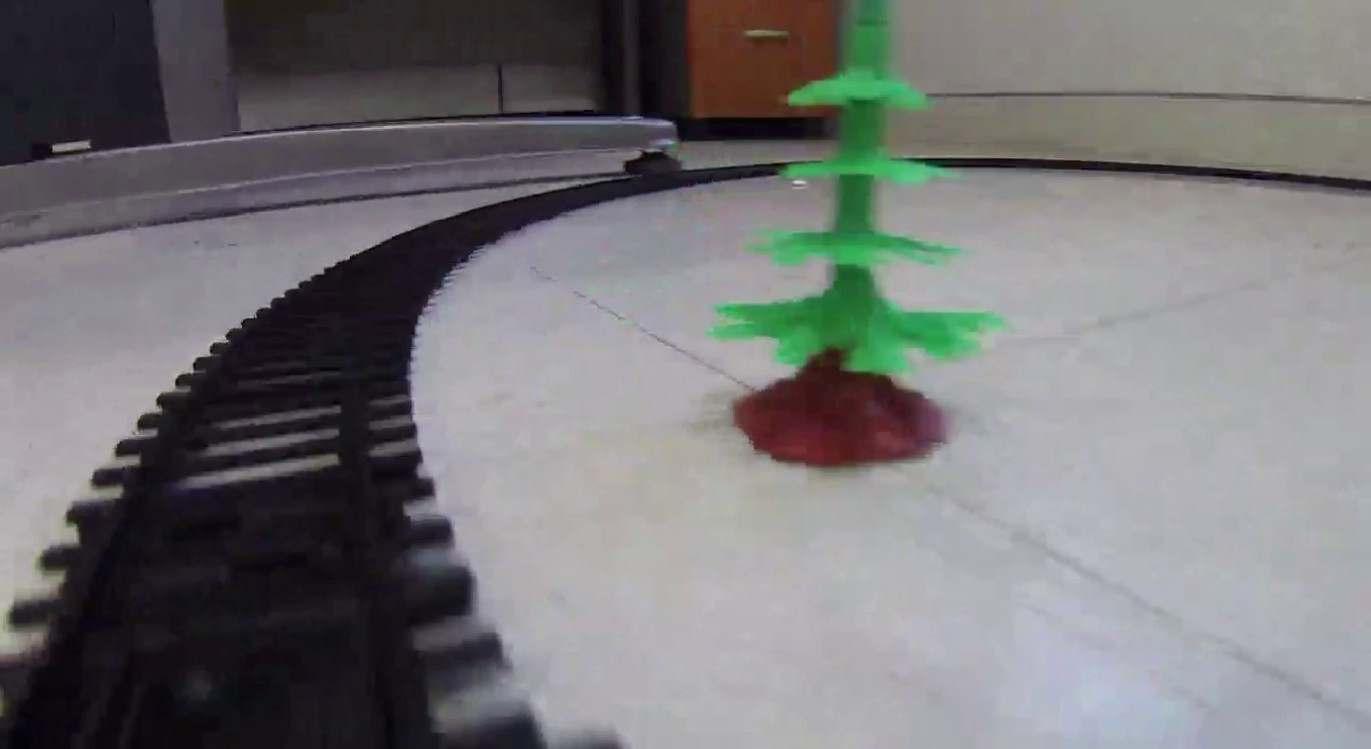tree: (709, 3, 1008, 468)
